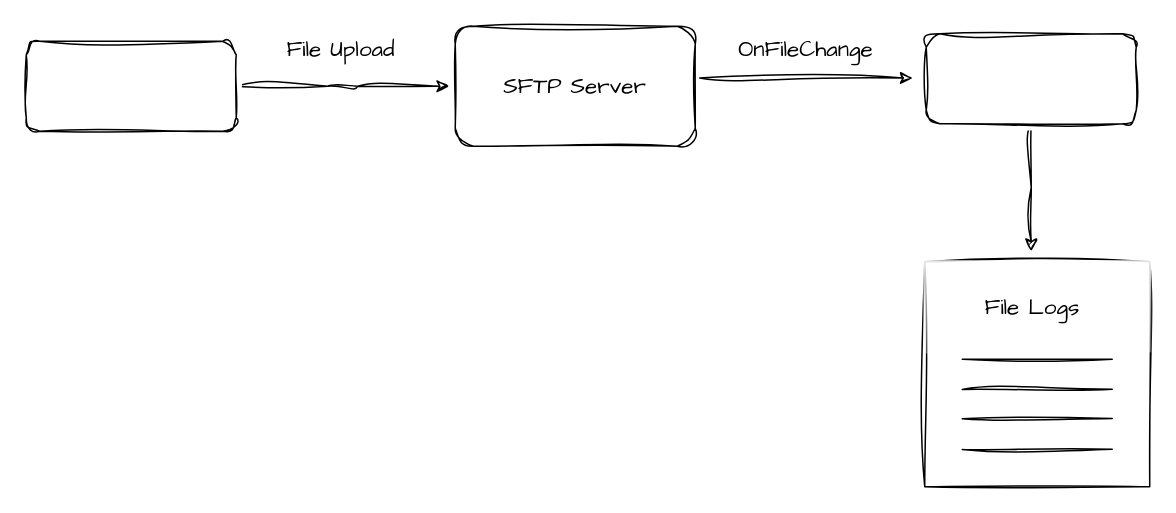
This 1176x513 diagram has some shape labels left out. Here are the shapes that lost their labels. From the top down, the centre of each, then its label:
At pixel 130 85: "SFTP Client".
At pixel 1030 78: "SFTP Listener".
